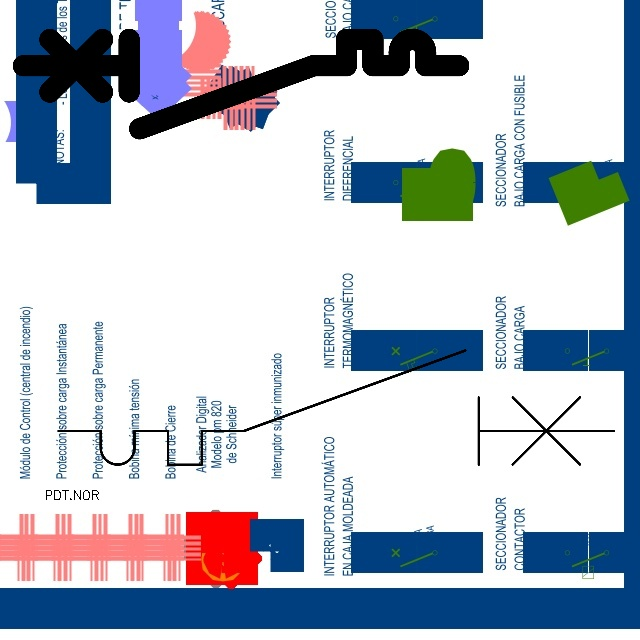interruptor_termomagnetico: (44, 336, 628, 479), (12, 28, 470, 140)
